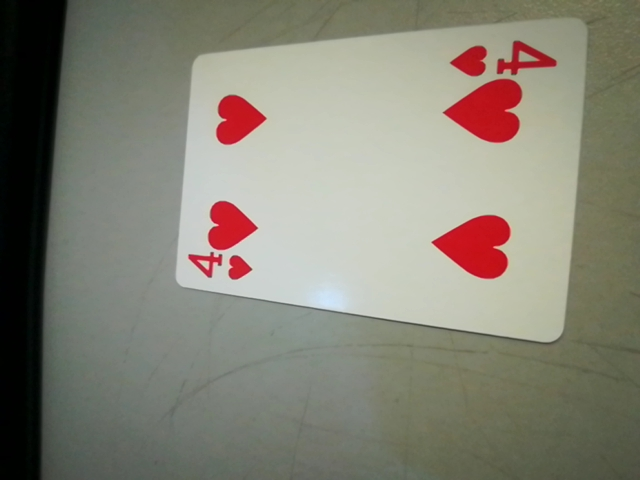hx 4: (180, 251, 265, 290)
